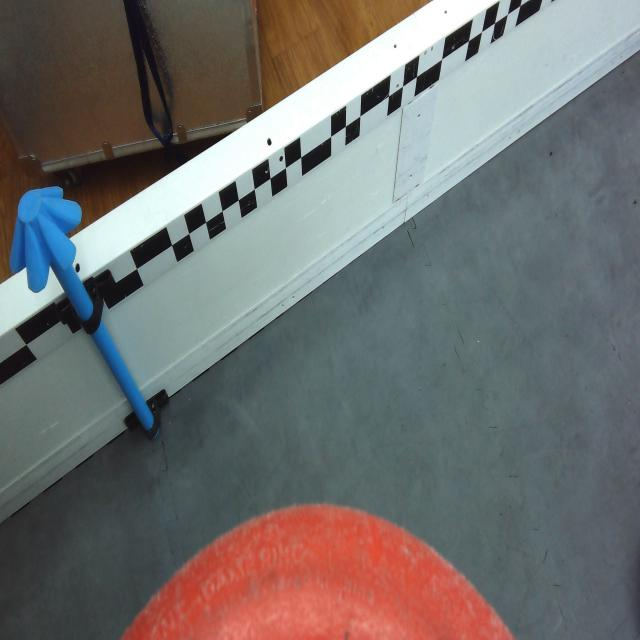zblue-Stake-Head: (10, 185, 87, 294)
